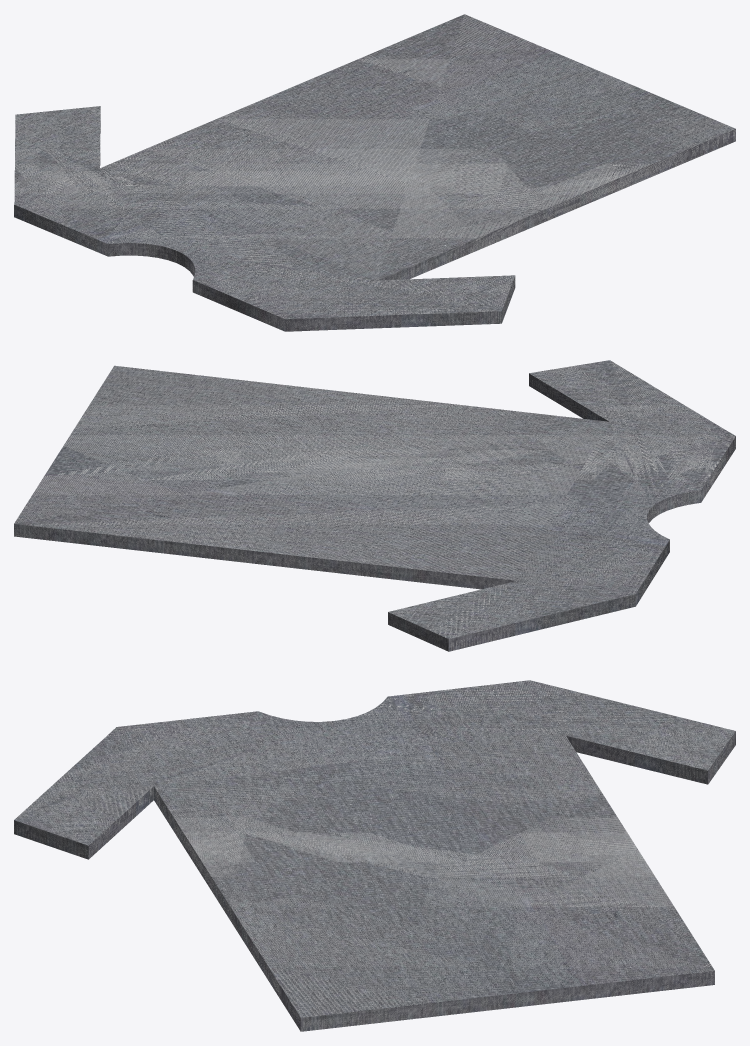
3 views of the same model, one above another, from view 1: azimuth 30°, elevation 25°; view 2: azimuth 150°, elevation 25°; view 3: azimuth 270°, elevation 25° (orthographic). The views are drawn at different scales.
Parts seen in each view (by area): view 1: Basic_T-Shirt; view 2: Basic_T-Shirt; view 3: Basic_T-Shirt.
Part boxes in pixels (x1=…): Basic_T-Shirt: x1=14, y1=14, x2=735, y2=331; Basic_T-Shirt: x1=14, y1=360, x2=735, y2=651; Basic_T-Shirt: x1=14, y1=680, x2=735, y2=1031.
Size of the model in its own units: 376 by 340 by 7.28.
